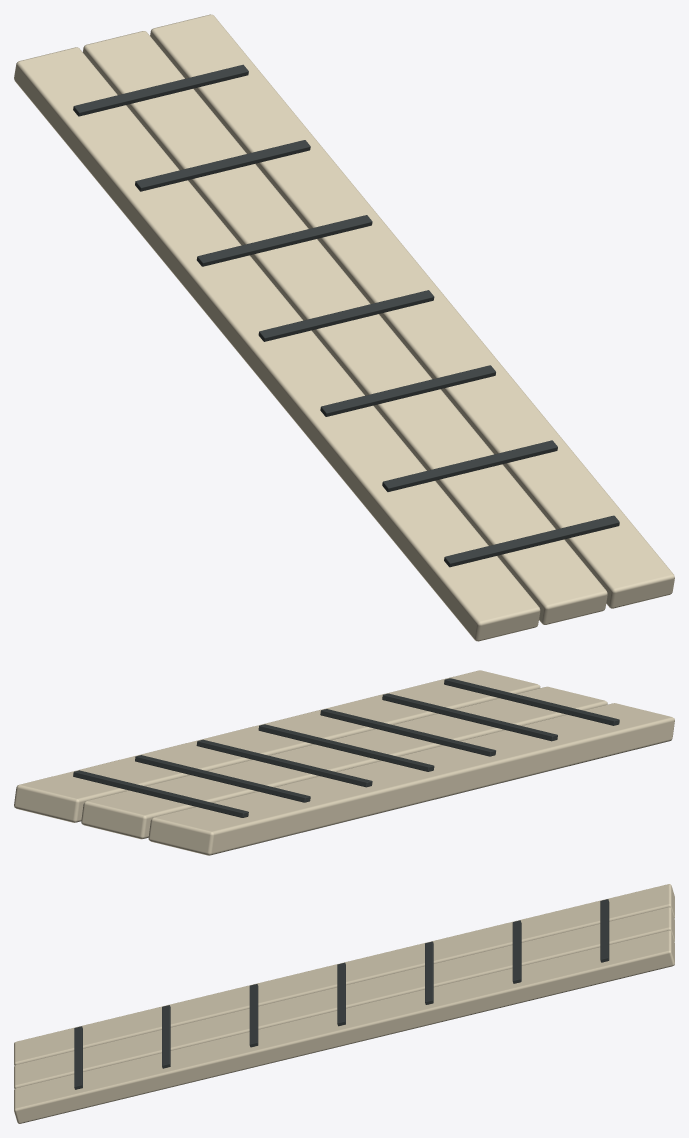
The model's file is canal-boats-and-lock-operations-canal-boats-and-lock-o-e589927a__31652.glb.
3 renders of one model, top to bottom at view 1: azimuth 30°, elevation 25°; view 2: azimuth 150°, elevation 25°; view 3: azimuth 270°, elevation 25°, orthographic. The views are drawn at different scales.
Visible parts, largest first — view 1: canal-boats-and-lock-operations-gangplank; view 2: canal-boats-and-lock-operations-gangplank; view 3: canal-boats-and-lock-operations-gangplank.
Part boxes in pixels (bbox=[...]): canal-boats-and-lock-operations-gangplank: bbox=[14, 14, 674, 641]; canal-boats-and-lock-operations-gangplank: bbox=[14, 670, 674, 855]; canal-boats-and-lock-operations-gangplank: bbox=[14, 884, 674, 1123].
Size of the model in its own units: 0.4999 by 0.5903 by 2.04.
